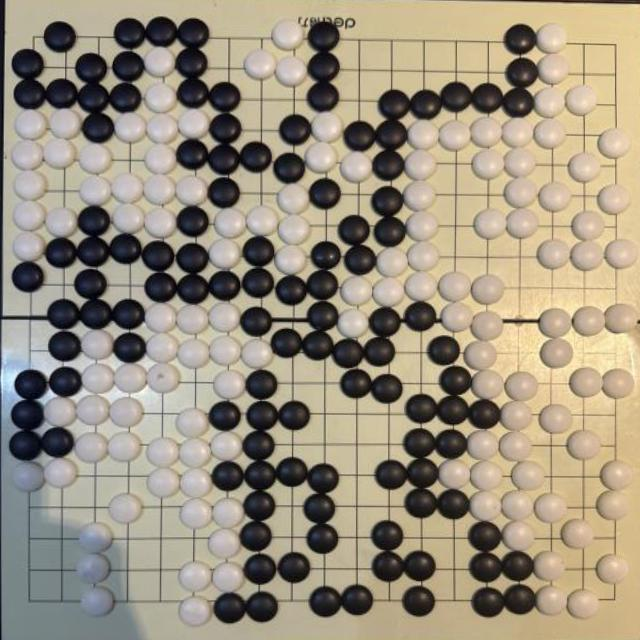blackstone: (9, 429, 43, 462), (14, 368, 48, 401), (10, 399, 45, 431), (48, 330, 82, 362), (48, 366, 82, 398), (40, 427, 74, 459), (74, 268, 108, 300), (76, 236, 110, 268), (78, 298, 112, 330), (77, 205, 111, 237), (208, 270, 242, 302), (242, 235, 276, 267), (242, 490, 276, 522), (47, 299, 80, 331), (109, 233, 142, 265), (82, 111, 115, 143), (177, 205, 210, 237), (142, 240, 175, 272), (177, 272, 210, 304), (469, 520, 502, 552), (176, 243, 209, 275), (109, 82, 142, 114), (77, 81, 110, 113), (112, 50, 145, 82), (176, 138, 209, 170), (111, 299, 145, 330), (244, 554, 278, 585), (209, 112, 243, 143), (242, 431, 276, 462), (12, 261, 44, 293), (45, 237, 77, 269), (14, 77, 46, 109), (506, 57, 538, 89), (46, 77, 78, 109), (471, 82, 503, 114), (208, 144, 240, 176), (214, 592, 246, 624), (176, 47, 208, 79), (343, 120, 375, 152), (113, 332, 146, 363), (144, 271, 177, 302), (239, 141, 272, 172), (275, 274, 308, 305), (242, 267, 275, 298), (279, 114, 312, 145), (43, 21, 76, 52), (245, 369, 278, 400), (75, 52, 108, 83), (439, 365, 472, 396), (307, 81, 340, 112), (177, 76, 210, 107), (504, 584, 537, 615), (309, 587, 342, 618), (308, 178, 342, 208), (208, 82, 242, 112), (501, 552, 535, 582), (470, 553, 504, 583), (472, 588, 506, 618), (307, 52, 341, 82), (144, 16, 178, 46), (374, 120, 408, 150), (12, 48, 44, 79), (274, 152, 306, 183), (208, 177, 240, 208), (502, 85, 534, 116), (240, 521, 272, 552), (371, 520, 403, 551), (404, 551, 436, 582), (373, 149, 405, 180), (404, 428, 436, 459), (403, 586, 435, 617), (504, 23, 536, 54), (342, 585, 374, 616), (437, 395, 469, 426), (410, 88, 441, 120), (428, 335, 461, 365), (306, 270, 339, 300), (276, 457, 309, 487), (246, 401, 279, 431), (437, 490, 470, 520), (244, 461, 277, 491), (468, 399, 501, 429), (246, 592, 279, 622), (177, 17, 210, 47), (209, 401, 241, 431), (338, 215, 370, 245), (240, 307, 272, 337), (270, 328, 302, 358), (373, 218, 405, 248), (212, 461, 244, 491), (372, 186, 404, 216), (405, 394, 437, 424), (307, 524, 339, 554), (310, 240, 342, 270), (308, 464, 340, 494), (278, 553, 310, 583), (302, 330, 334, 360), (332, 338, 364, 368), (405, 488, 437, 518), (308, 301, 340, 331), (304, 494, 336, 524), (440, 82, 472, 112), (373, 552, 405, 582), (435, 429, 467, 459), (114, 18, 146, 48), (308, 20, 340, 50), (406, 458, 438, 488), (369, 307, 401, 337), (404, 302, 436, 332), (378, 90, 410, 120), (279, 401, 311, 430), (340, 369, 372, 398), (375, 460, 407, 489), (371, 374, 403, 403), (344, 245, 376, 274), (364, 337, 396, 365)
whitestone: (77, 142, 112, 176), (144, 143, 178, 177), (13, 169, 47, 203), (80, 363, 114, 396), (304, 141, 338, 174), (143, 207, 177, 240), (13, 199, 46, 233), (42, 136, 76, 169), (597, 127, 632, 159), (596, 490, 632, 521), (111, 172, 144, 205), (177, 108, 210, 141), (466, 430, 500, 462), (375, 247, 409, 279), (371, 276, 405, 308), (505, 208, 539, 240), (501, 490, 535, 522), (471, 274, 505, 306), (208, 238, 242, 270), (502, 520, 536, 552), (178, 438, 212, 470), (80, 329, 114, 361), (114, 363, 148, 395), (179, 468, 213, 500), (274, 244, 308, 276), (147, 467, 181, 499), (44, 396, 78, 428), (213, 208, 247, 240), (246, 205, 280, 237), (109, 396, 143, 428), (532, 551, 566, 583), (74, 432, 108, 464), (208, 529, 242, 561), (12, 231, 46, 263), (76, 394, 110, 426), (78, 174, 112, 206), (43, 457, 77, 489), (600, 460, 634, 492), (604, 303, 638, 335), (178, 561, 212, 593), (78, 522, 112, 554), (212, 561, 246, 593), (76, 552, 110, 584), (144, 82, 178, 114), (499, 401, 534, 432), (468, 461, 503, 492), (474, 208, 507, 240), (146, 332, 179, 364), (277, 183, 310, 215), (177, 303, 210, 335), (113, 202, 146, 234), (310, 112, 343, 144), (114, 111, 147, 143), (145, 112, 178, 144), (11, 139, 44, 171), (49, 108, 82, 140), (14, 109, 47, 141), (143, 46, 176, 78), (470, 370, 504, 401), (404, 271, 438, 302), (438, 272, 472, 303), (499, 431, 533, 462), (438, 459, 472, 490), (539, 404, 573, 435), (504, 177, 538, 208), (469, 491, 503, 522), (540, 337, 574, 368), (570, 240, 604, 271), (144, 303, 178, 334), (179, 498, 213, 529), (538, 308, 572, 339), (597, 184, 631, 215), (601, 368, 635, 399), (12, 461, 46, 492), (274, 56, 308, 87), (178, 596, 212, 627), (80, 586, 114, 617), (503, 372, 538, 402), (107, 494, 142, 524), (340, 275, 372, 307), (278, 214, 310, 246), (340, 151, 372, 183), (572, 210, 604, 242), (470, 116, 502, 148), (534, 86, 566, 118), (176, 175, 208, 207), (45, 207, 77, 239), (144, 173, 176, 205), (538, 53, 570, 85), (471, 311, 504, 342), (403, 180, 436, 211), (539, 181, 572, 212), (209, 336, 242, 367), (471, 149, 504, 180), (177, 338, 210, 369), (210, 431, 243, 462), (533, 118, 566, 149), (572, 306, 605, 337), (501, 117, 534, 148), (212, 498, 245, 529), (565, 84, 598, 115), (441, 302, 475, 332), (511, 461, 545, 491), (212, 370, 246, 400), (534, 494, 568, 524), (176, 408, 210, 438), (569, 368, 603, 398), (567, 430, 601, 460), (537, 239, 571, 269), (146, 438, 180, 468), (561, 519, 595, 549), (107, 432, 141, 462), (604, 239, 638, 269), (596, 554, 630, 584), (567, 589, 601, 619), (337, 308, 369, 339), (404, 150, 436, 181), (241, 338, 273, 369), (568, 152, 600, 183), (407, 119, 439, 150), (244, 49, 276, 80), (536, 22, 568, 53), (406, 242, 439, 272), (208, 302, 241, 332), (438, 120, 471, 150), (271, 19, 304, 49), (406, 211, 438, 241), (504, 148, 536, 178), (147, 363, 179, 393), (535, 586, 567, 616), (464, 341, 496, 370)
